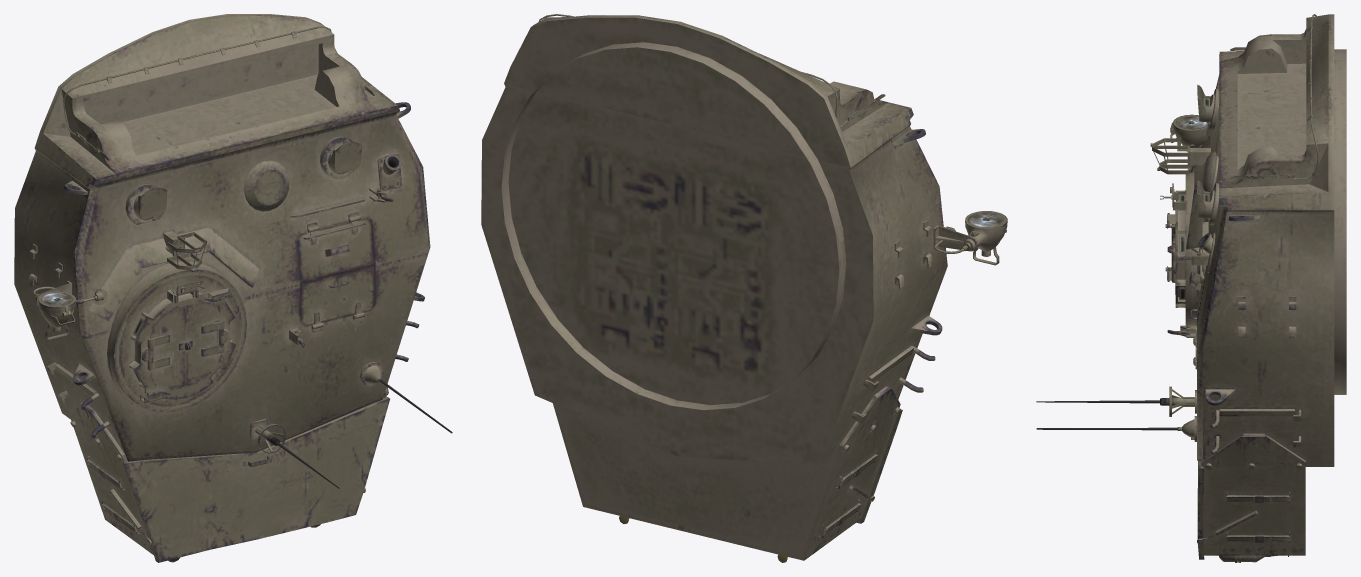
Rendered from Turret_02.glb.
3 renders of one model, left to right at view 1: azimuth 30°, elevation 25°; view 2: azimuth 150°, elevation 25°; view 3: azimuth 270°, elevation 25°, orthographic. The views are drawn at different scales.
Parts seen in each view (by area): view 1: set_0_group_0; view 2: set_0_group_0; view 3: set_0_group_0.
Boxes of the visible parts, x1=… form: set_0_group_0: x1=14, y1=14, x2=452, y2=562; set_0_group_0: x1=481, y1=14, x2=1007, y2=562; set_0_group_0: x1=1036, y1=14, x2=1346, y2=562.
Bounding box in the file's own units: 2.58 × 3 × 1.75.
1 material, 1 textured.
